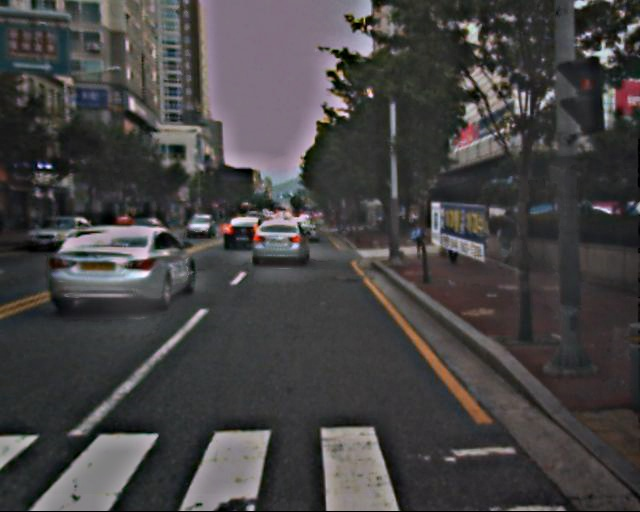person: (495, 208, 520, 269), (410, 216, 428, 260), (446, 223, 464, 267)
